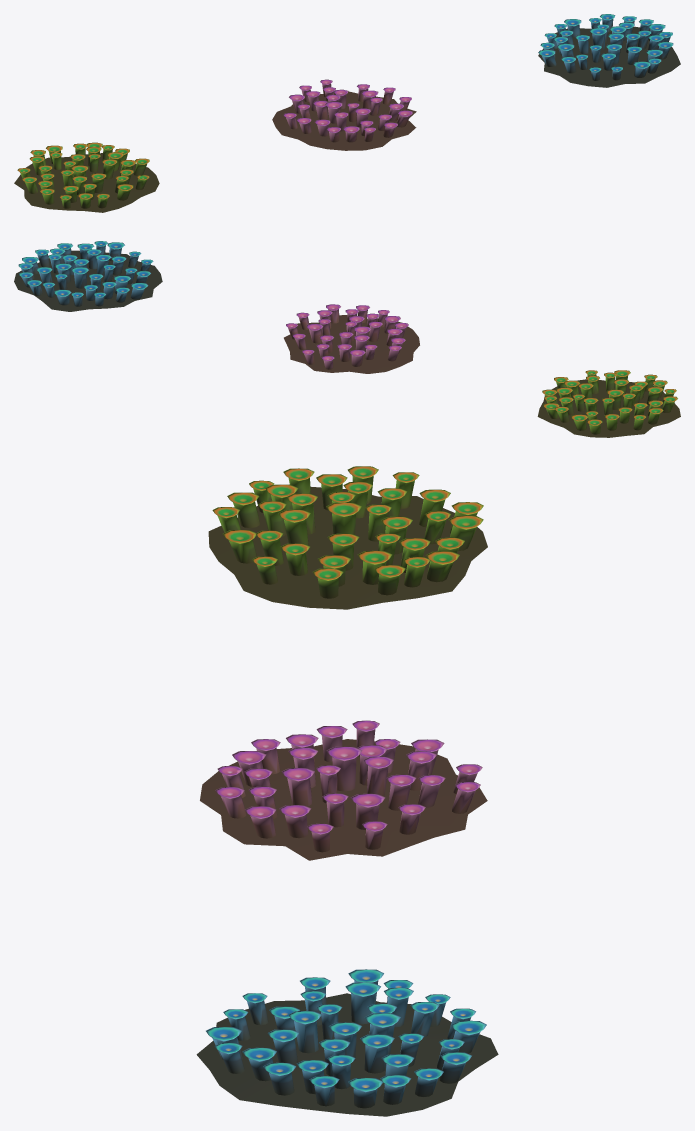
3 renders of one model, top to bottom at view 1: azimuth 30°, elevation 25°; view 2: azimuth 150°, elevation 25°; view 3: azimuth 270°, elevation 25°, orthographic. The views are drawn at different scales.
Visible parts, largest first — view 1: zoanthids-2, zoanthids-0, zoanthids-1; view 2: zoanthids-2, zoanthids-0, zoanthids-1; view 3: zoanthids-2, zoanthids-0, zoanthids-1.
Part boxes in pixels (bbox=[...]): zoanthids-2: bbox=[538, 14, 680, 87]; zoanthids-0: bbox=[14, 142, 159, 212]; zoanthids-1: bbox=[272, 79, 416, 150]; zoanthids-2: bbox=[14, 241, 162, 311]; zoanthids-0: bbox=[537, 370, 680, 437]; zoanthids-1: bbox=[284, 304, 419, 373]; zoanthids-2: bbox=[196, 969, 498, 1116]; zoanthids-0: bbox=[208, 466, 487, 609]; zoanthids-1: bbox=[200, 720, 487, 860].
Size of the model in its own units: 0.7449 by 0.0198 by 0.151.
